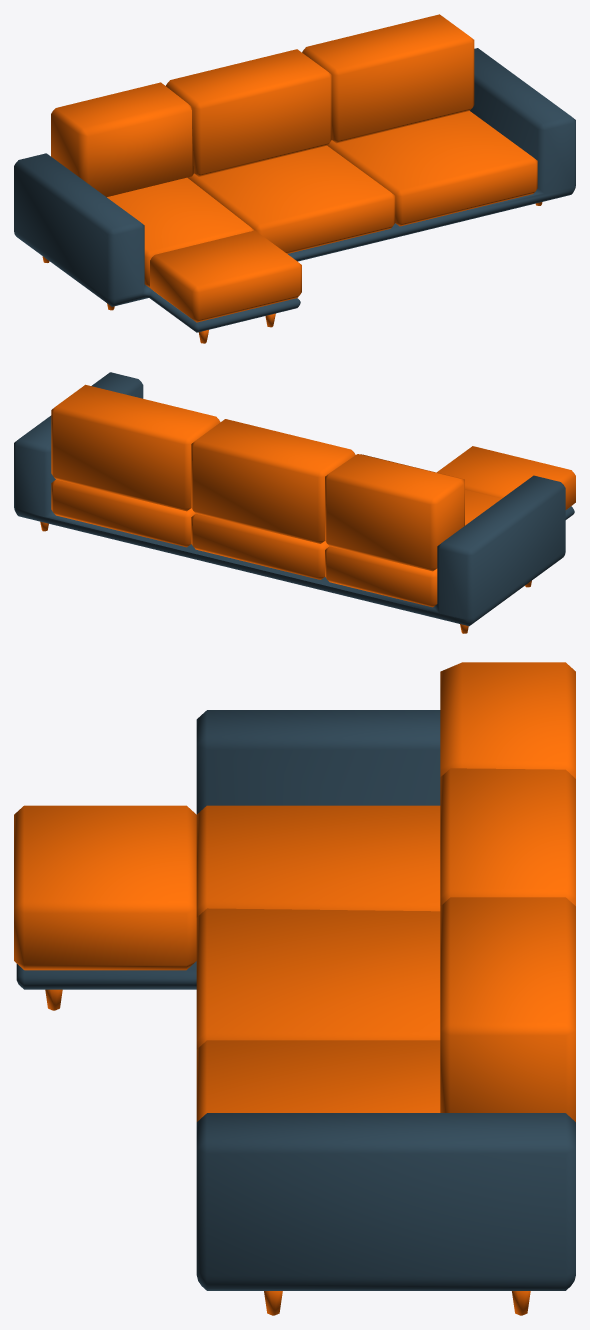
The model's file is Seat.fbx.
The picture shows the model from 3 angles, top to bottom: view 1: azimuth 30°, elevation 25°; view 2: azimuth 150°, elevation 25°; view 3: azimuth 270°, elevation 25°; orthographic projection. The views are drawn at different scales.
Visible parts, largest first — view 1: Cube.019; view 2: Cube.019; view 3: Cube.019.
Boxes of the visible parts, x1,y1,x2,y2 form: Cube.019: (14, 14, 575, 343); Cube.019: (14, 372, 575, 633); Cube.019: (14, 662, 575, 1315).
Size of the model in its own units: 406 by 116 by 220.
1 material, 1 textured.
